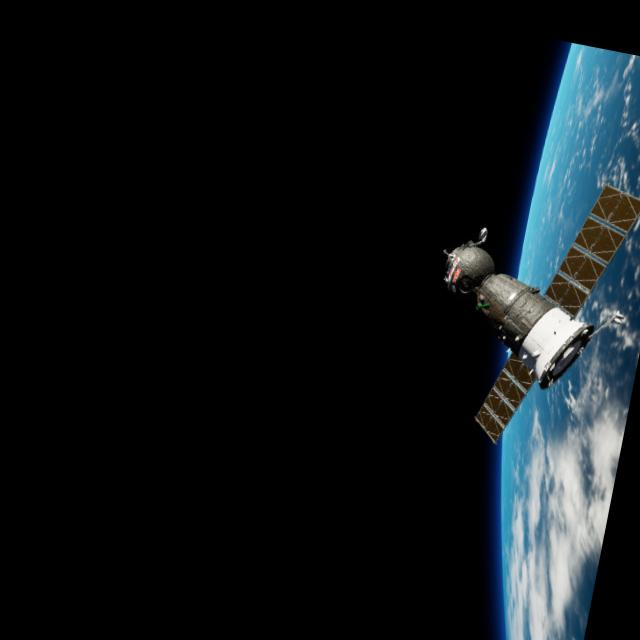Satellites revolving around earth: (408, 152, 640, 467)
